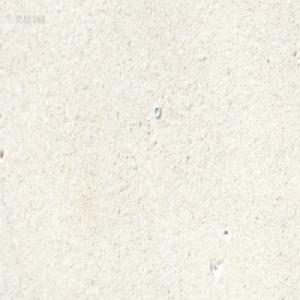Washer: (153, 104, 160, 118)
